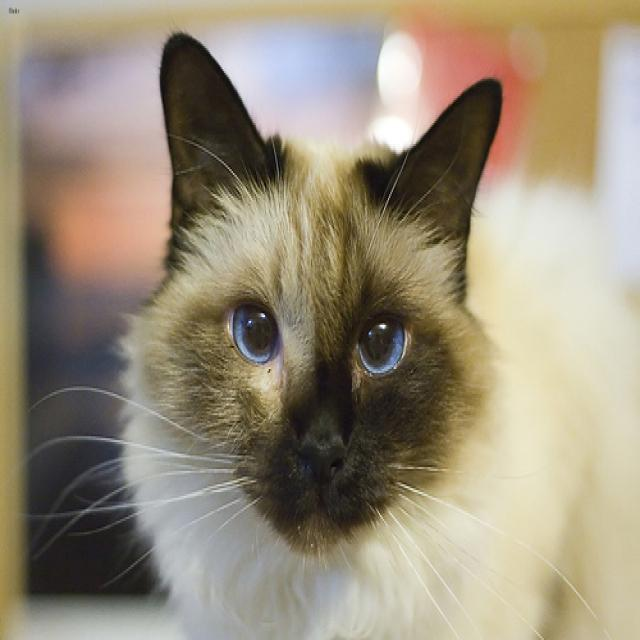Birman: (100, 24, 529, 560)
